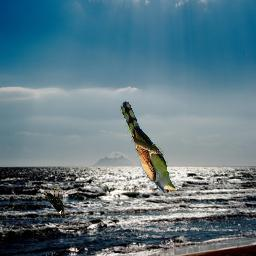Crow: (43, 188, 67, 219)
Cuckoo: (121, 101, 180, 193)
